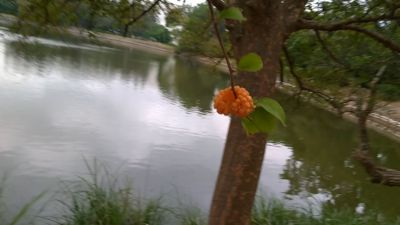eggs: (214, 84, 256, 118)
